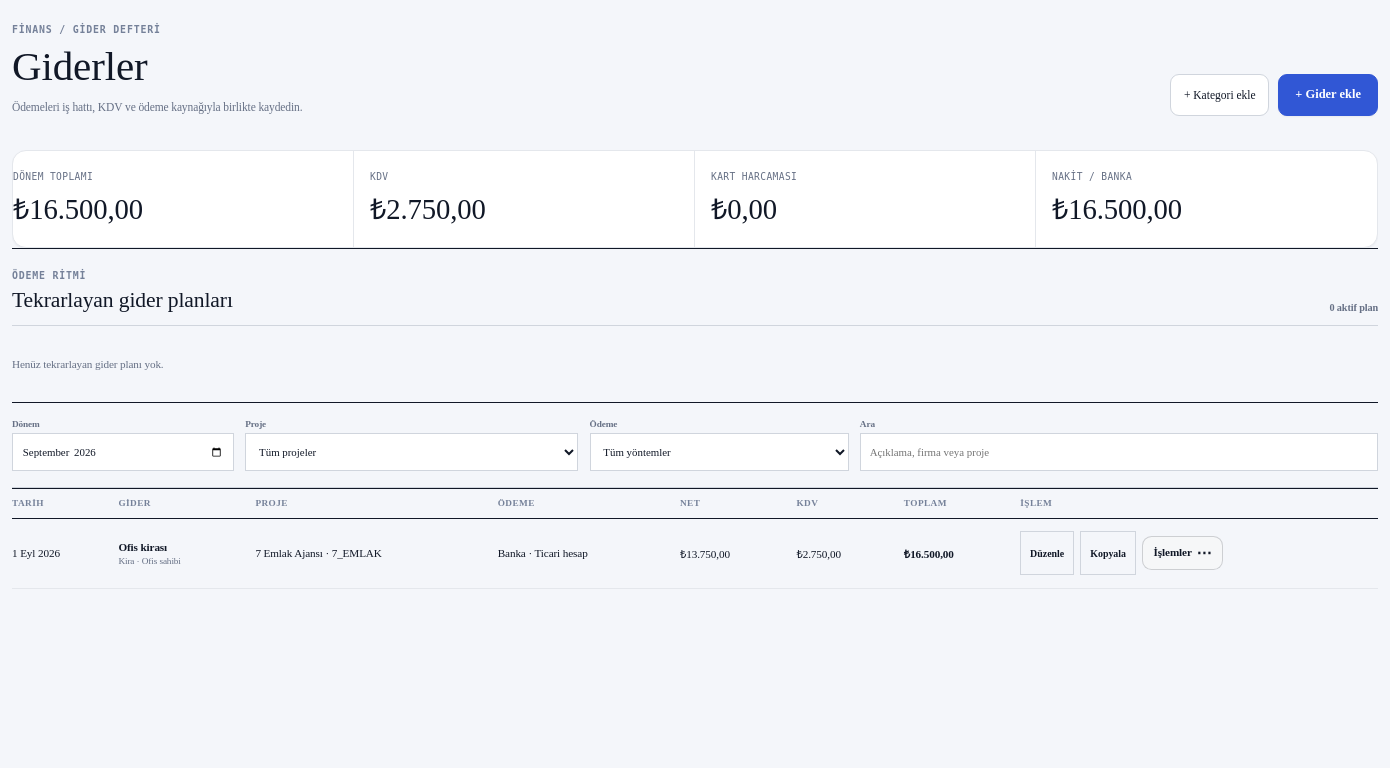
it: ExpensesWorkspace › opens editable and copy forms from an existing expense
The image size is (1390, 768).
Check: the text "Ofis kirası" is shown, box [118,540,167,552]
Click the button with aria-label "Ofis kirası giderini düzenle": (1047, 553) [1020,531,1074,575]
(page scrolled)
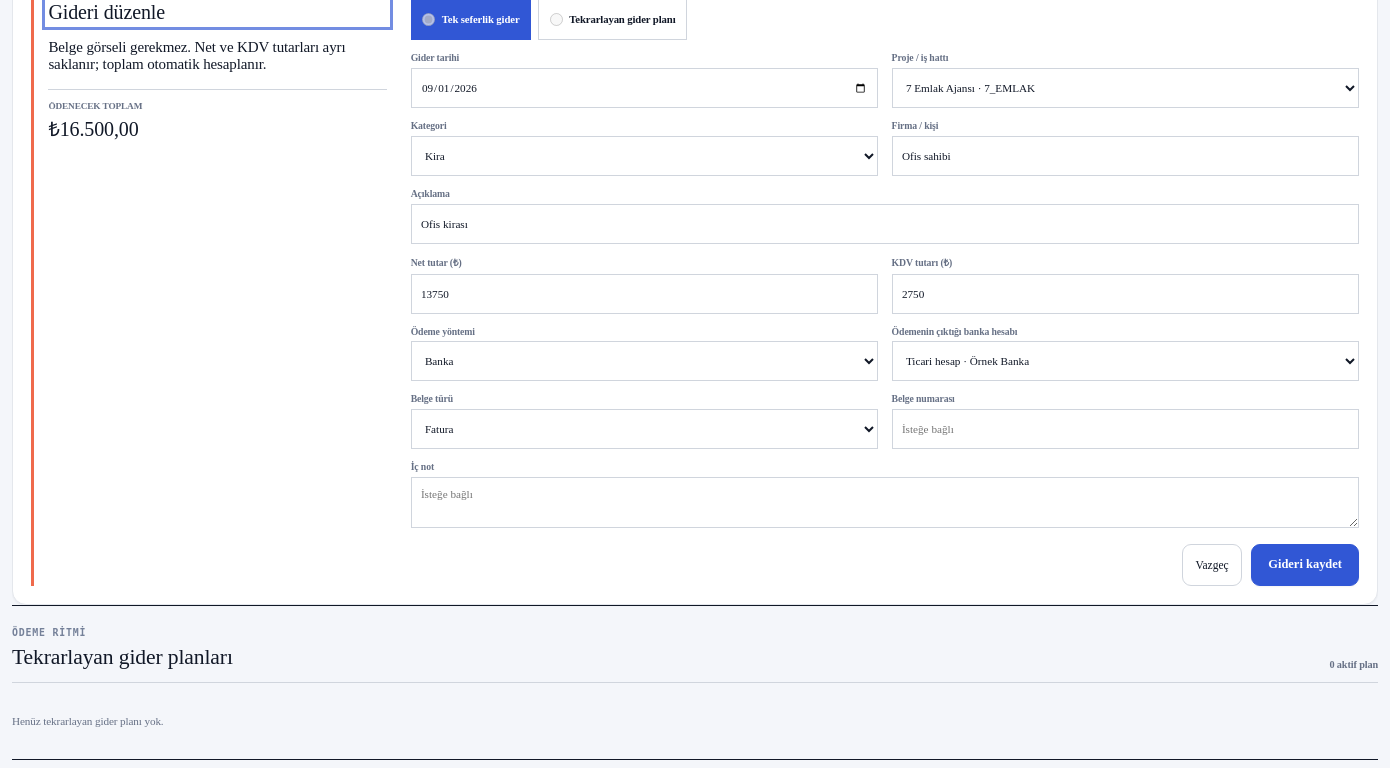
Check: the field labelled "Net tutar (₺)" holds "13750", box [411,274,878,314]
Click the button "Vazgeç": (1212, 565) [1182,544,1242,586]
(page scrolled)
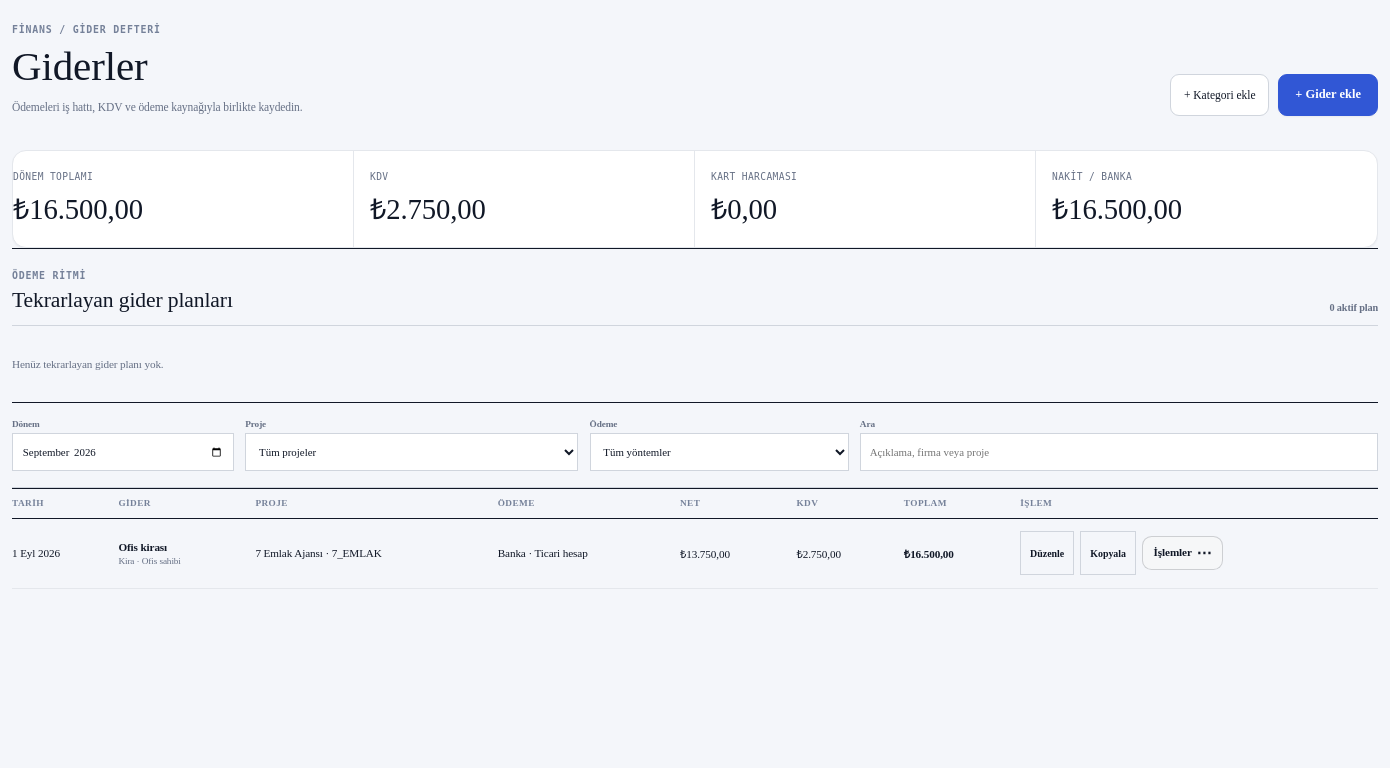
Click the button with aria-label "Ofis kirası giderini kopyala": (1108, 553) [1080,531,1136,575]
(page scrolled)
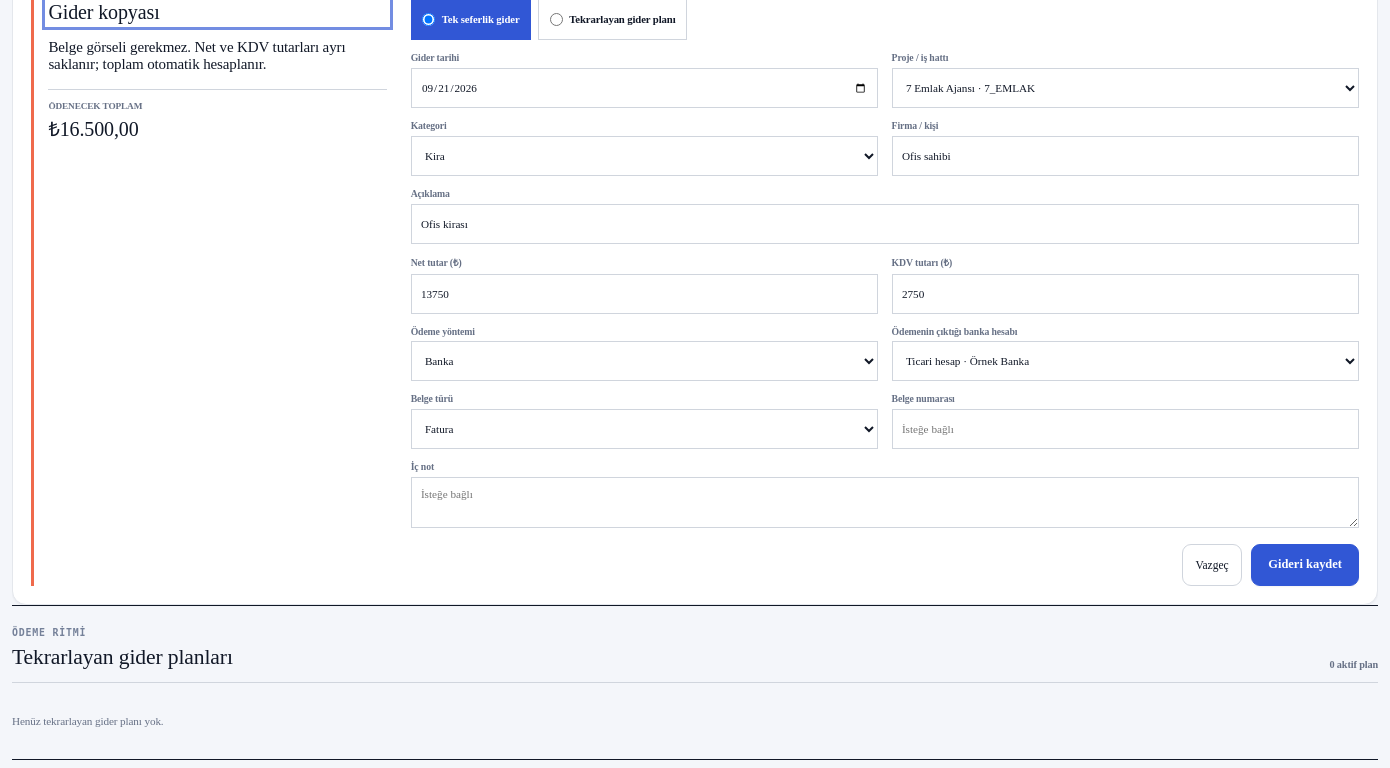
Check: the heading "Gider kopyası" is shown, box [48,0,160,22]
Check: the field labelled "Açıklama" holds "Ofis kirası", box [411,204,1359,244]
